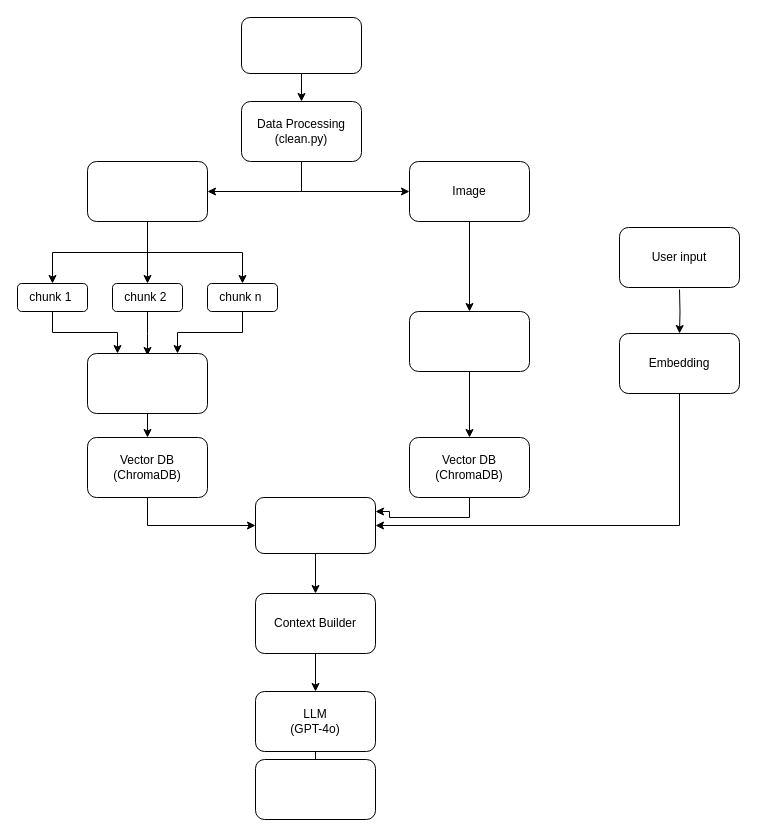
The diagram is 757 pixels wide and 837 high, and some of its shapes have lost their labels. The shapes that lost their labels are listed below. From the top down, each one's centre as x and y in pixels, then its label:
At (301,45): "Data Collection (scraping.py)".
At (147,191): "Text".
At (469,341): "Embedding (Clip)".
At (147,383): "Embedding (e5)".
At (315,525): "Retrieval".
At (315,789): "Answer + Images + Sources".
